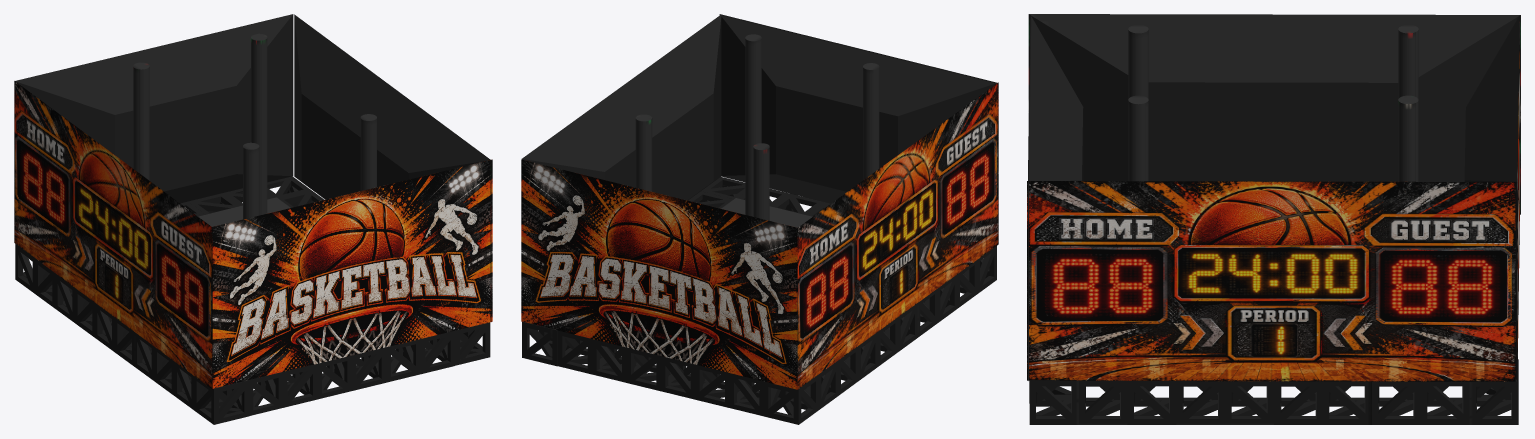
The model's file is marcadorBueno.obj.
The picture shows the model from 3 angles, left to right: view 1: azimuth 30°, elevation 25°; view 2: azimuth 150°, elevation 25°; view 3: azimuth 270°, elevation 25°; orthographic projection. The views are drawn at different scales.
Parts seen in each view (by area): view 1: Marcador; view 2: Marcador; view 3: Marcador.
Part boxes in pixels (left/top/right/bottom): Marcador: left=14, top=14, right=492, bottom=424; Marcador: left=521, top=14, right=998, bottom=424; Marcador: left=1027, top=14, right=1520, bottom=424.
Size of the model in its own units: 8.13 by 6.28 by 10.1.
3 materials, 3 textured.
